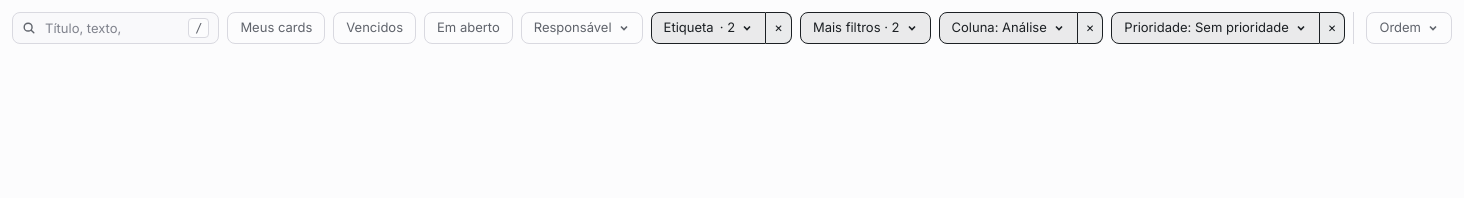
a barra de filtros do Trabalho › o "Limpar" no pe do menu desmarca tudo dele, e so dele
Press the mouse on the button "Etiqueta · 2" at (708, 28), box [651, 12, 766, 44]
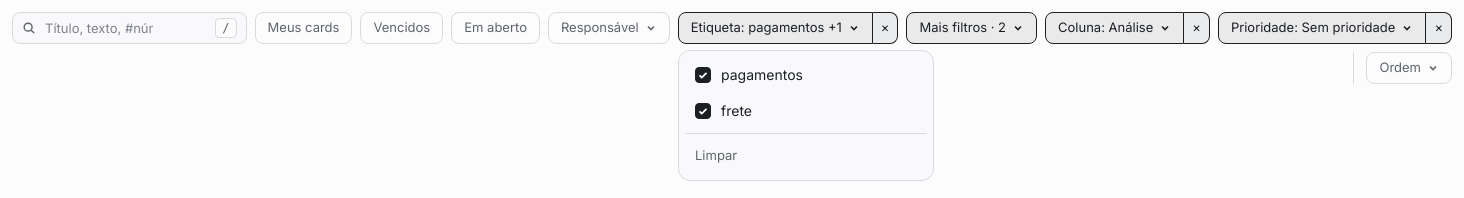
Result: the menu item "frete" is shown at [695, 102, 752, 119]
Click the menu item "Limpar" at (716, 155), box [695, 147, 737, 163]
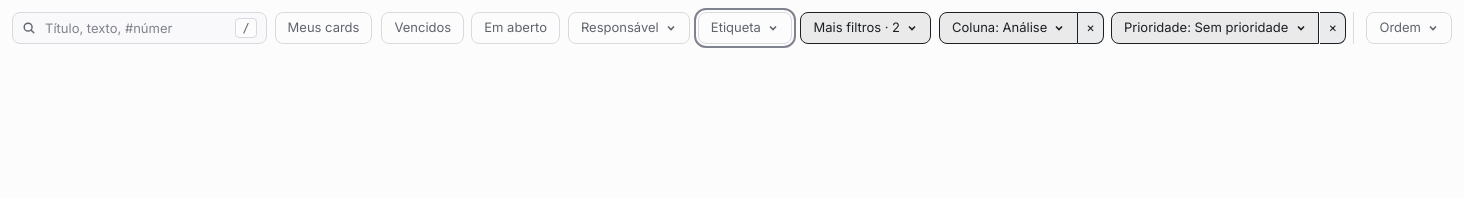
Result: the menu is gone
Press the mouse on the button "Etiqueta" at (745, 28), box [698, 12, 792, 44]
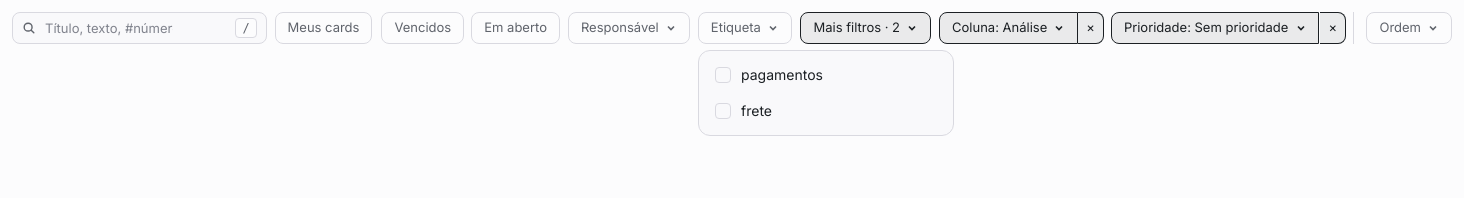
Expected: the menu item "Limpar" is not shown
Result: the menu item "frete" is shown at [715, 102, 772, 119]
